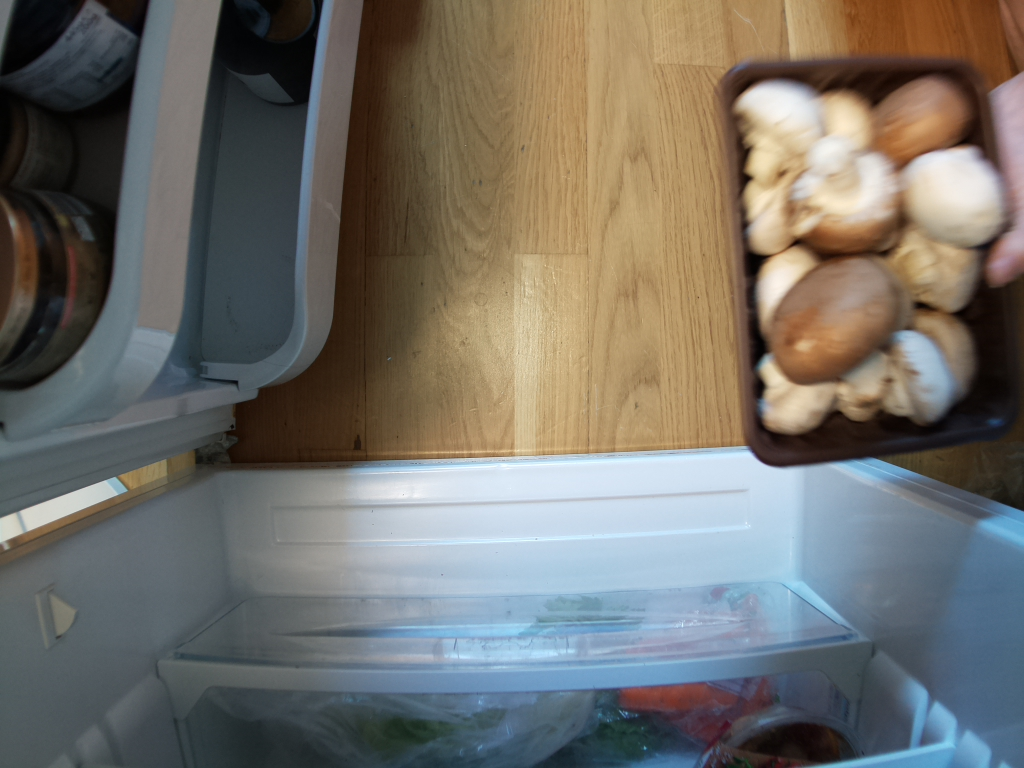mushrooms: (727, 67, 1011, 453)
